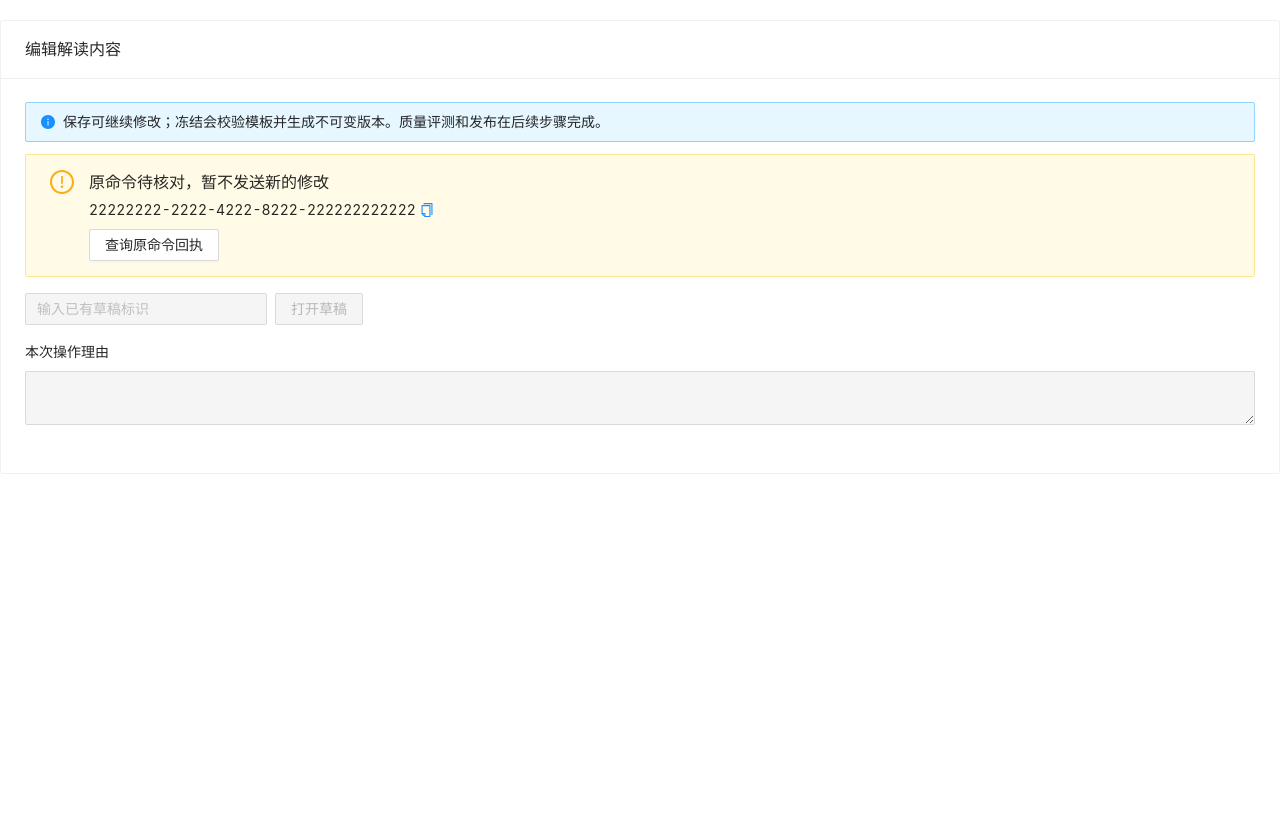
Test: reconciles an older save receipt against current freeze state before unlocking
The image size is (1280, 817).
Click the button "查询原命令回执".
click(154, 245)  # box left=89, top=229, right=219, bottom=261
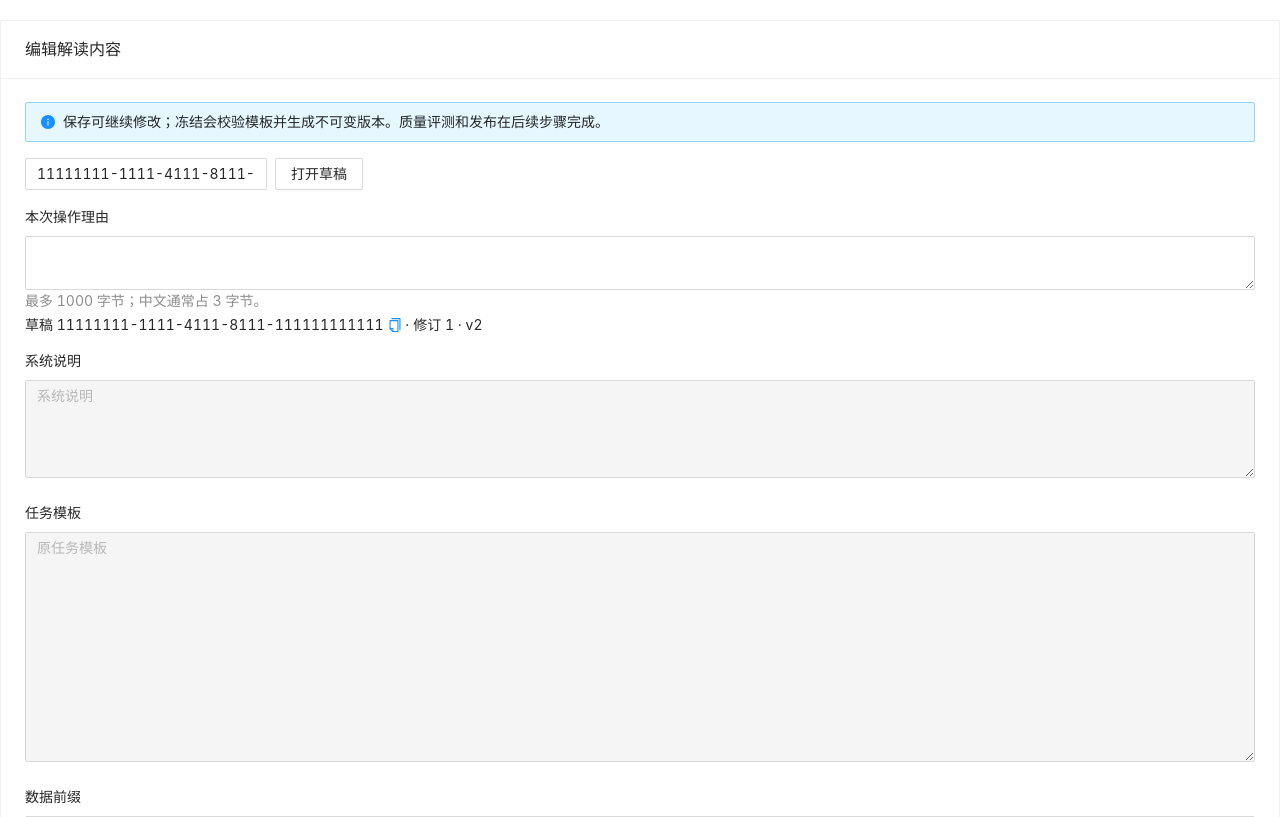
Check: the text box named "任务模板" is disabled, box left=25, top=532, right=1255, bottom=762
